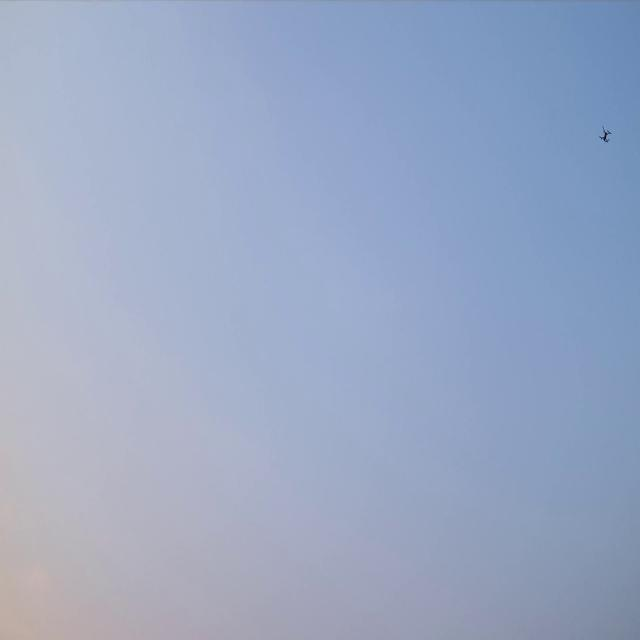UAV: (598, 123, 612, 142)
